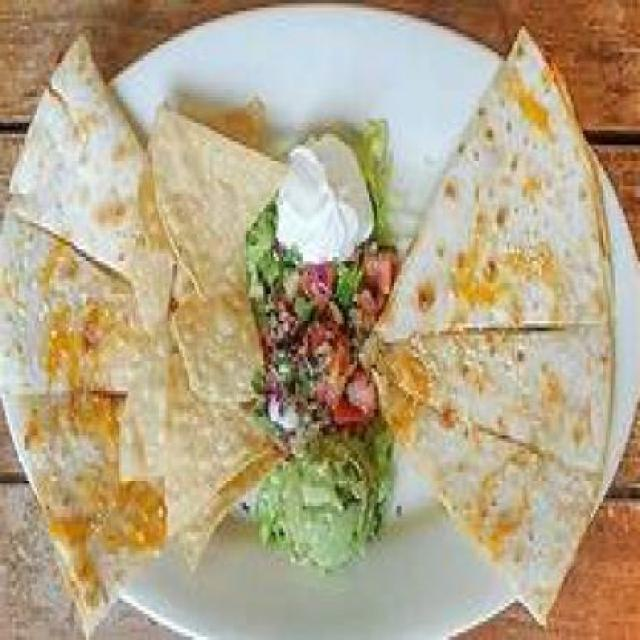chicken quesadilla: (377, 19, 611, 636), (2, 7, 173, 636)
guacamole: (251, 89, 409, 562)
nachos: (118, 97, 288, 569)
